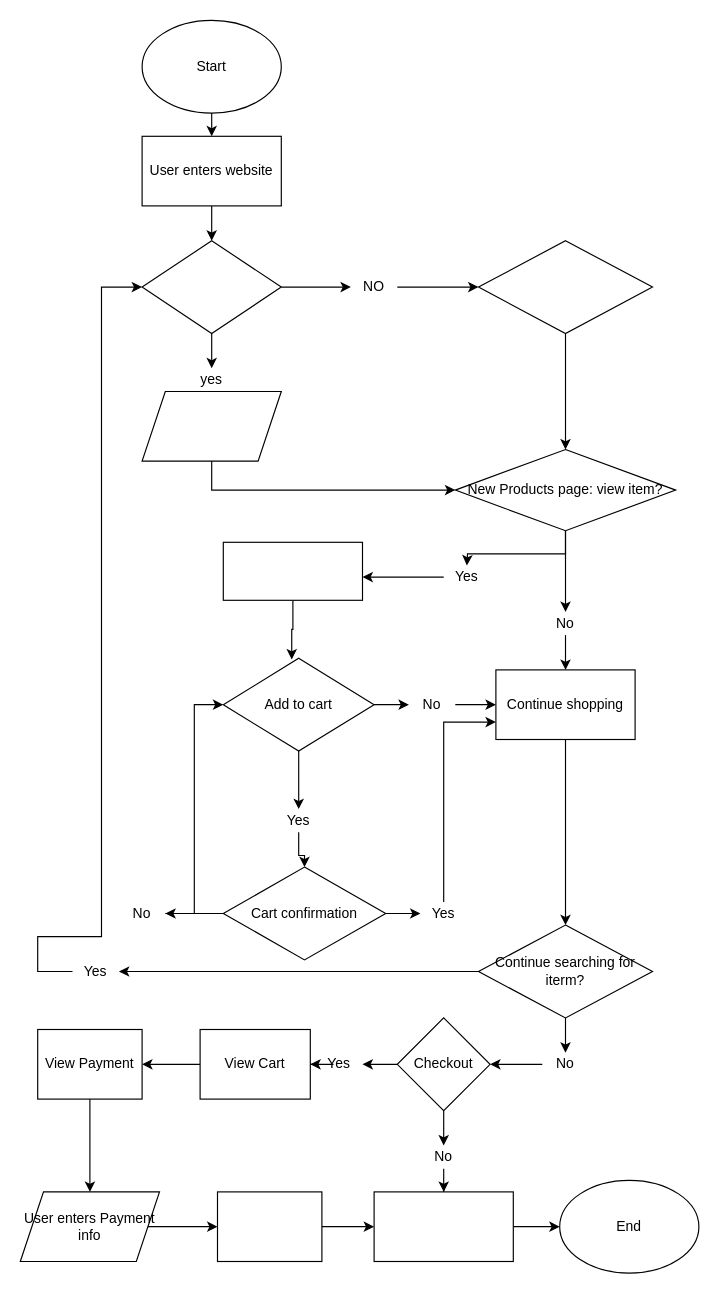
The diagram is 719 pixels wide and 1293 high, and some of its shapes have lost their labels. Each missing label, with the centre of its shape:
"Confirmation Screen" belongs at (269,1226).
"Explore the Products on home page" belongs at (564,287).
"Leave Website" belongs at (443,1226).
"Product webpage opens" belongs at (292,570).
"provide input to the website of their search" belongs at (211,425).
"Search for a product?" belongs at (211,287).
